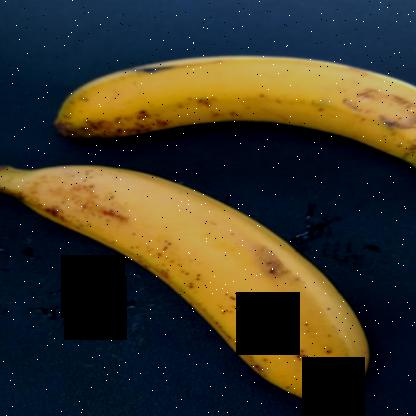ripe: (7, 151, 380, 415), (36, 42, 416, 178)
